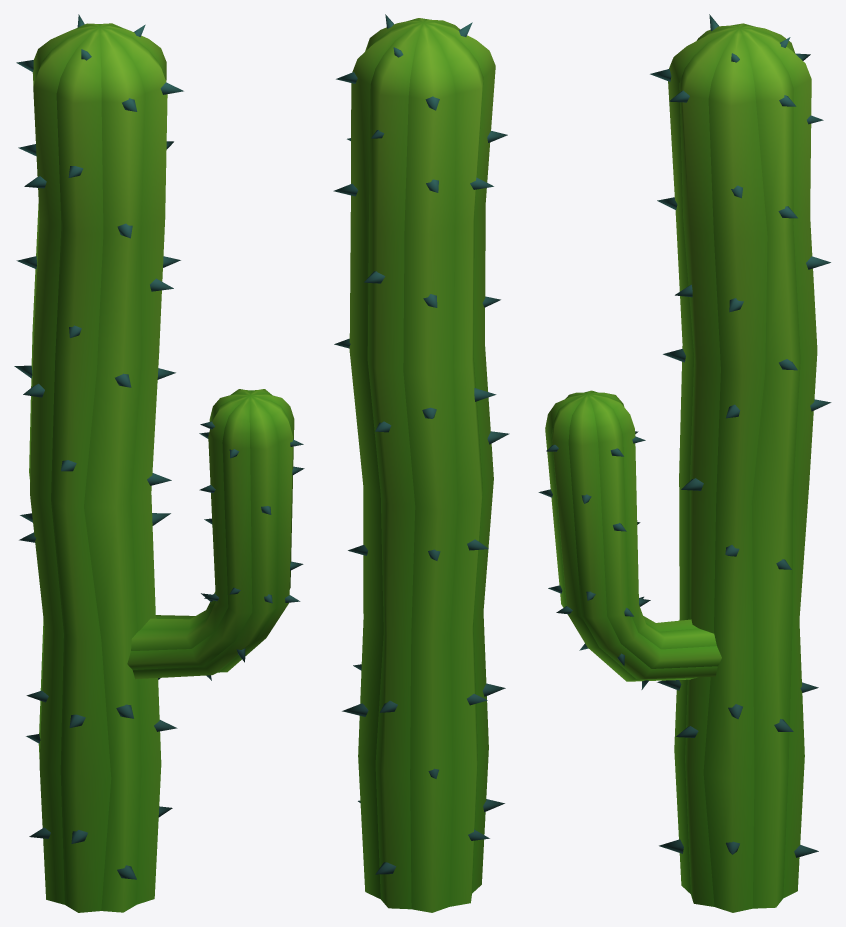
The model's file is Cactus3.fbx.
3 views of the same model, side by side, from view 1: azimuth 30°, elevation 25°; view 2: azimuth 150°, elevation 25°; view 3: azimuth 270°, elevation 25° (orthographic).
Parts seen in each view (by area): view 1: pasted__Circle.028; view 2: pasted__Circle.028; view 3: pasted__Circle.028.
Part boxes in pixels (<box>): pasted__Circle.028: <box>14,14,304,912</box>; pasted__Circle.028: <box>333,14,509,912</box>; pasted__Circle.028: <box>538,14,831,912</box>.
Bounding box in the file's own units: 58.38 × 237 × 73.44.
